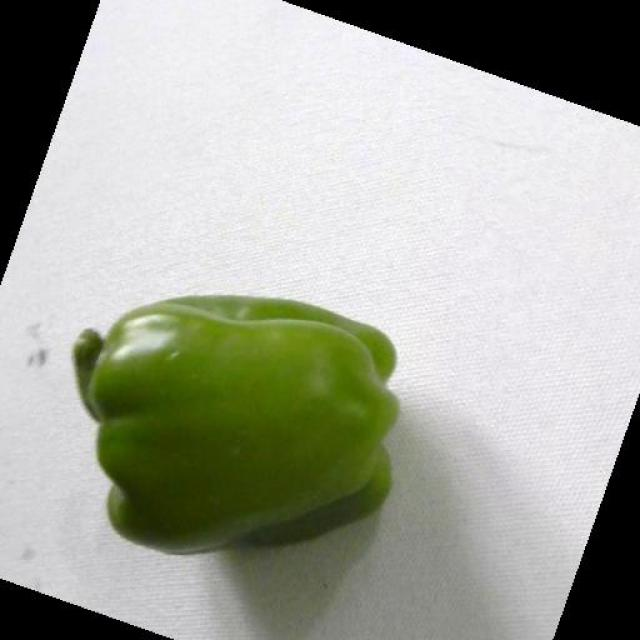Fresh_Capsicum: (91, 300, 397, 556)
